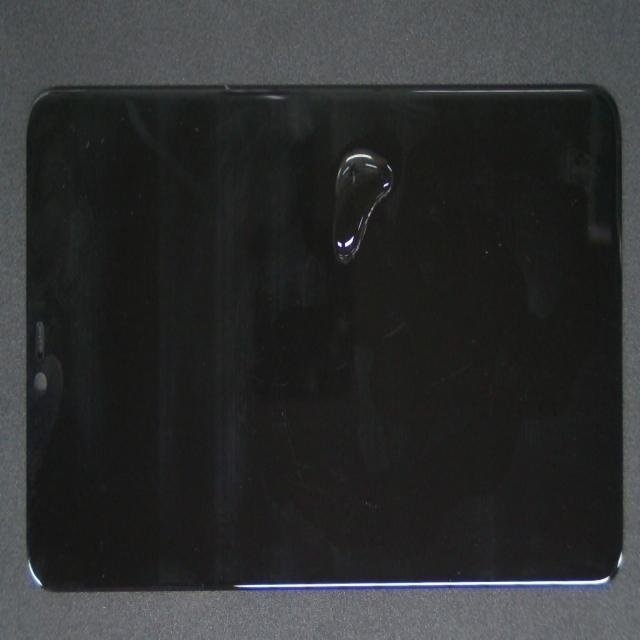oil: (224, 91, 573, 241)
